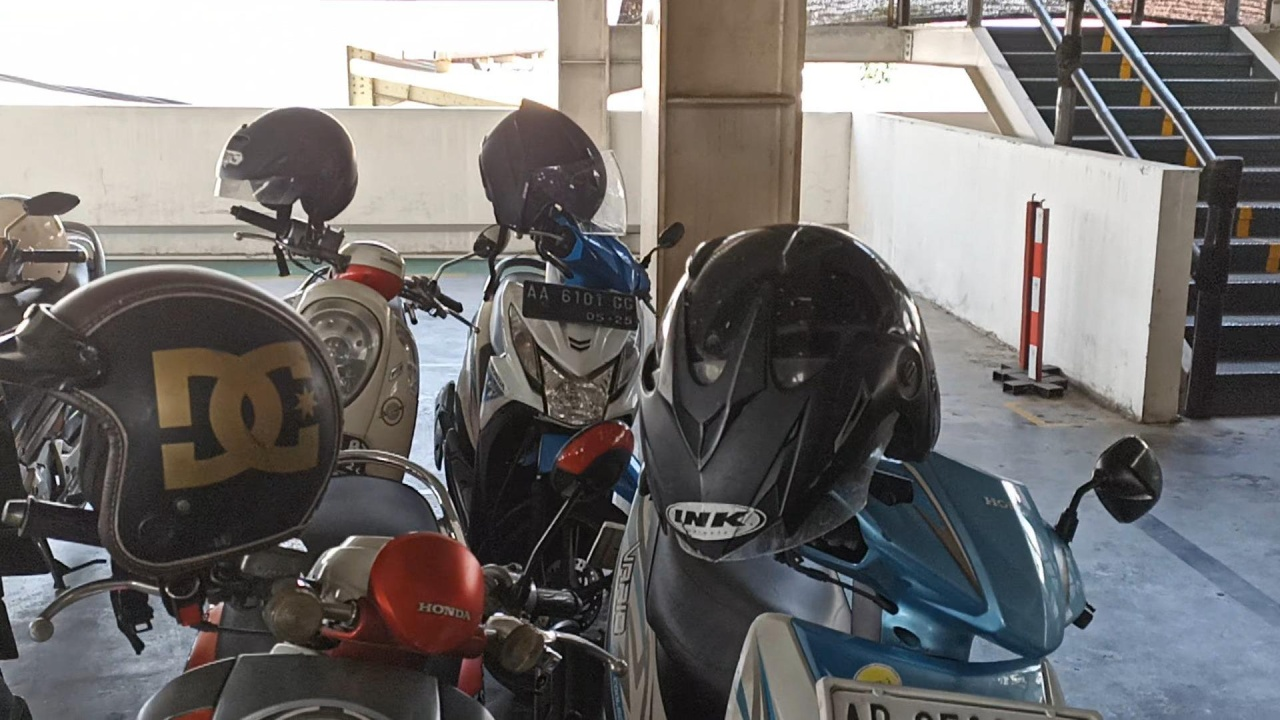plate: (522, 279, 639, 332)
